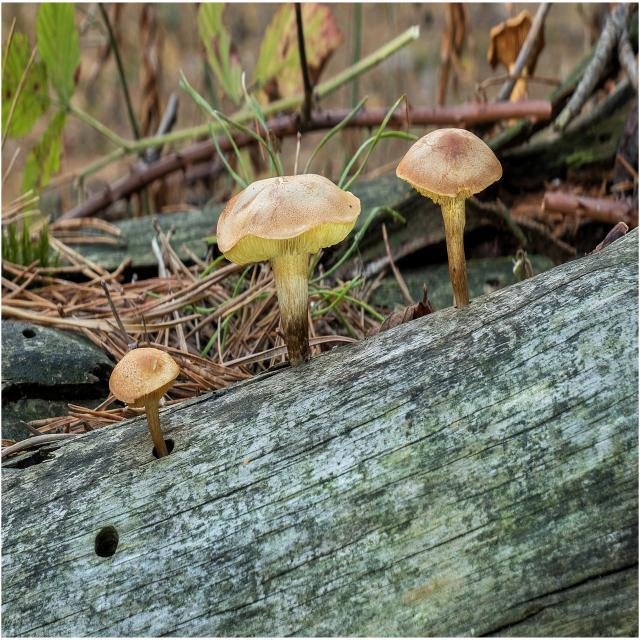Armillaria mellea: (217, 179, 361, 373), (395, 128, 503, 311), (109, 346, 181, 454)
